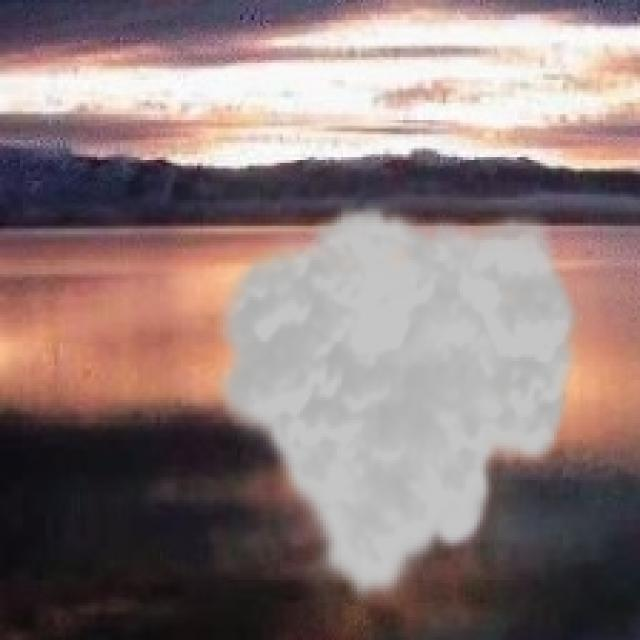Smoke: (205, 200, 586, 609)
